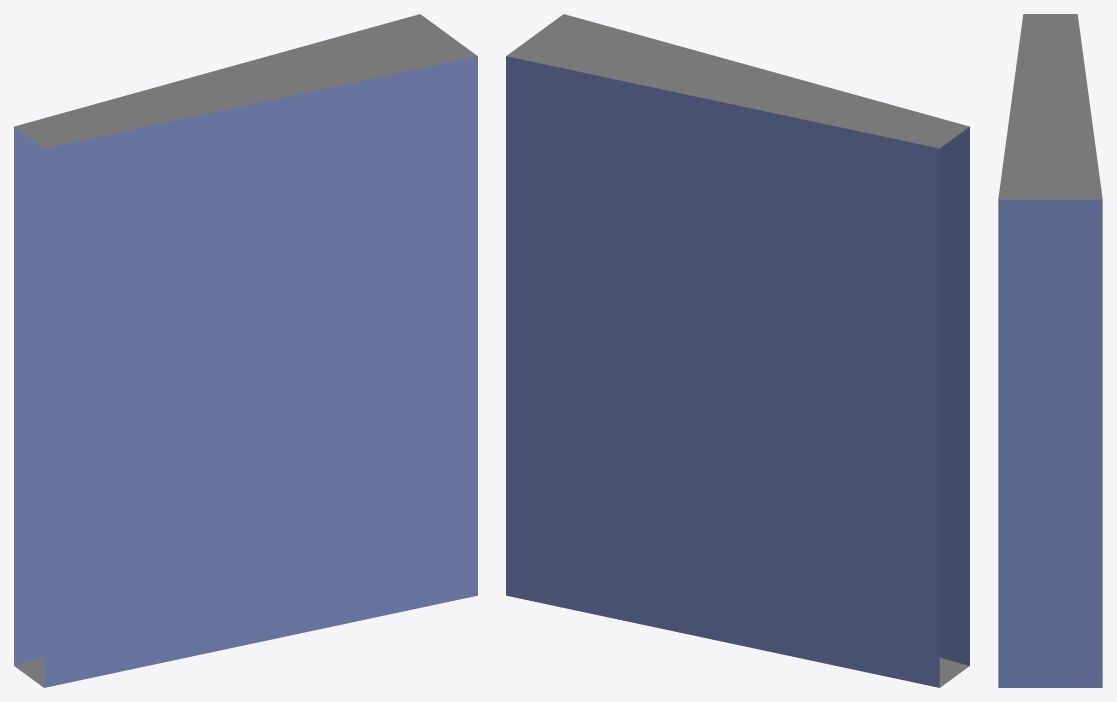
3 renders of one model, left to right at view 1: azimuth 30°, elevation 25°; view 2: azimuth 150°, elevation 25°; view 3: azimuth 270°, elevation 25°, orthographic. The views are drawn at different scales.
Visible parts, largest first — view 1: Joint_0_Object_0; view 2: Joint_0_Object_0; view 3: Joint_0_Object_0.
Boxes of the visible parts, x1,y1,x2,y2 form: Joint_0_Object_0: (14, 14, 477, 687); Joint_0_Object_0: (506, 14, 969, 687); Joint_0_Object_0: (998, 14, 1102, 687).
Bounding box in the file's own units: 681 × 837 × 162.
